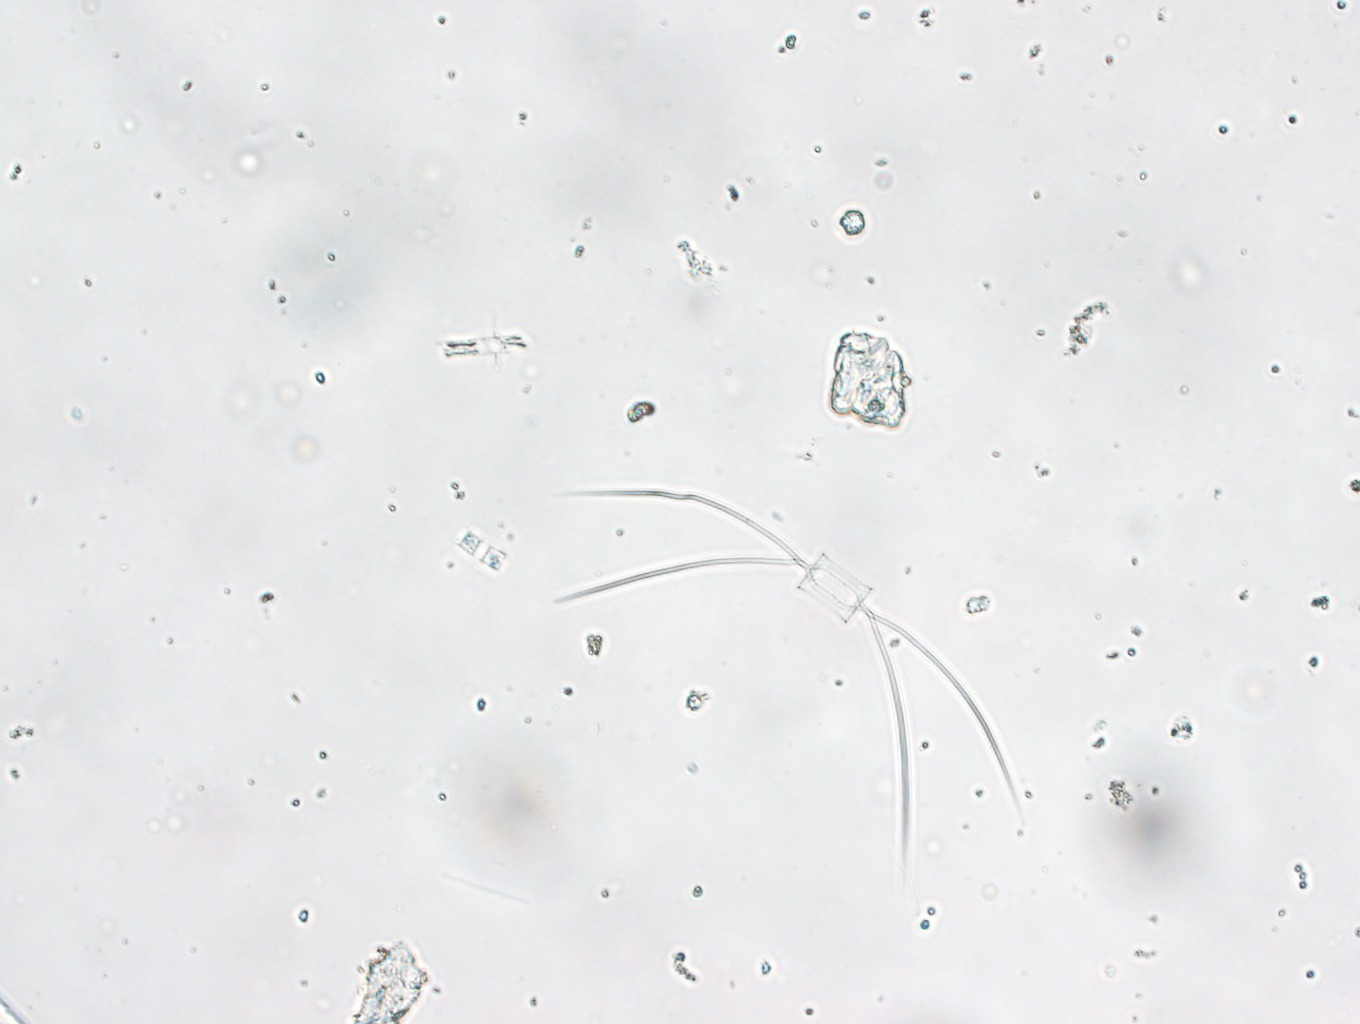chaetoceros: (542, 474, 1036, 881)
